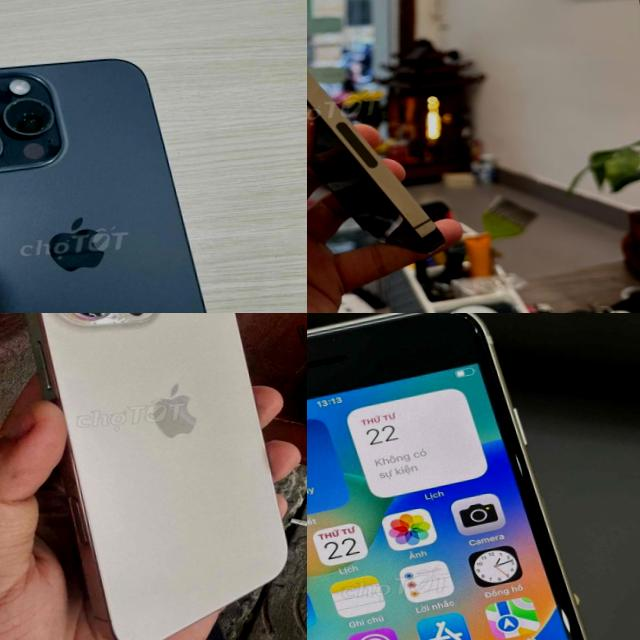scratch: (307, 323, 372, 343), (558, 608, 578, 640), (461, 313, 484, 331)
